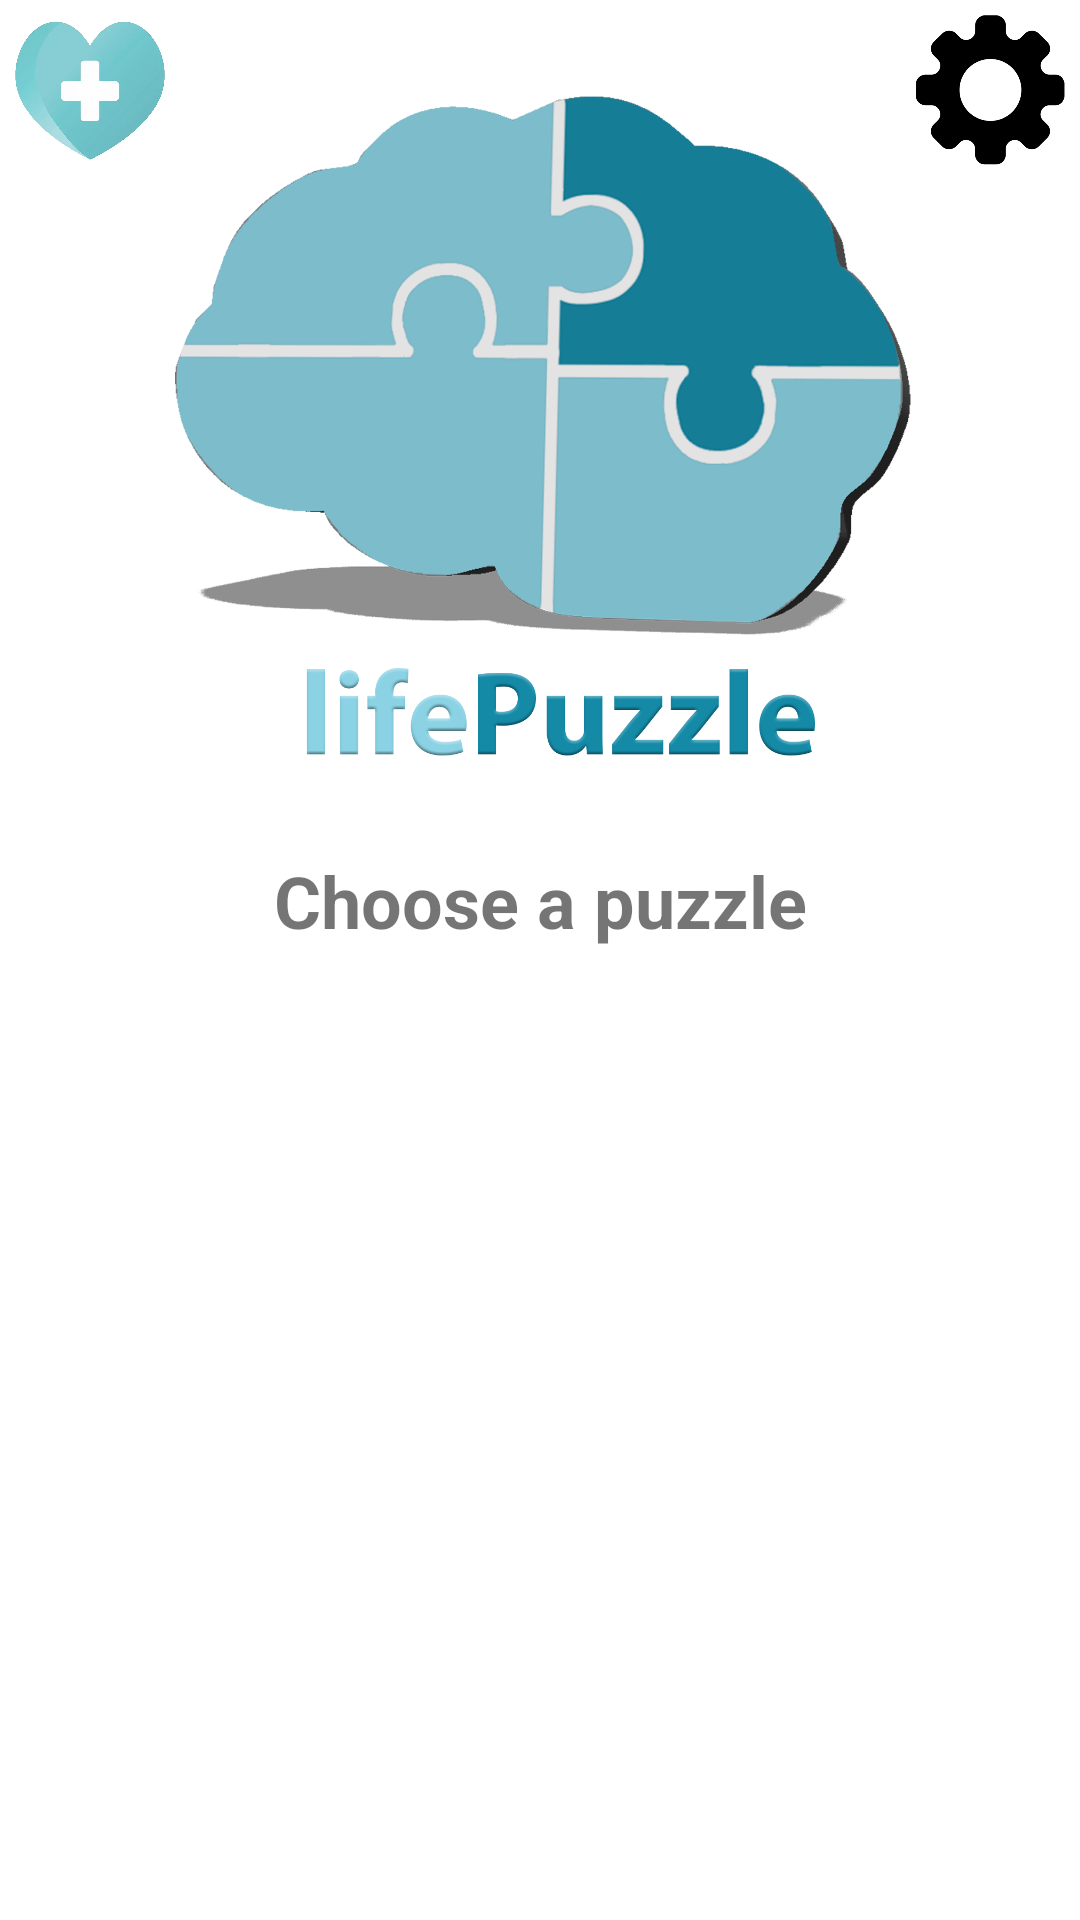

Screen size 1080*1920. Icon name, then its box in pixels as (x1, y1, x2, y2):
caregiver: (15, 22, 165, 160)
gear: (916, 15, 1065, 165)
